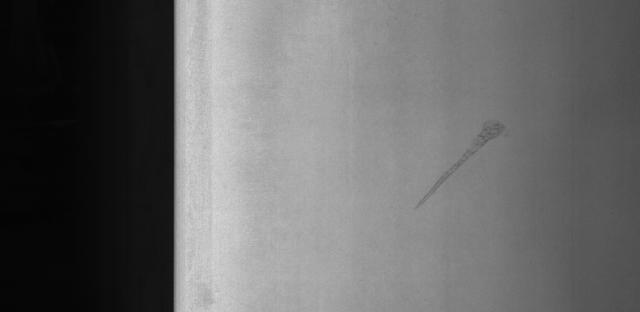water_spot: (406, 106, 530, 217)
